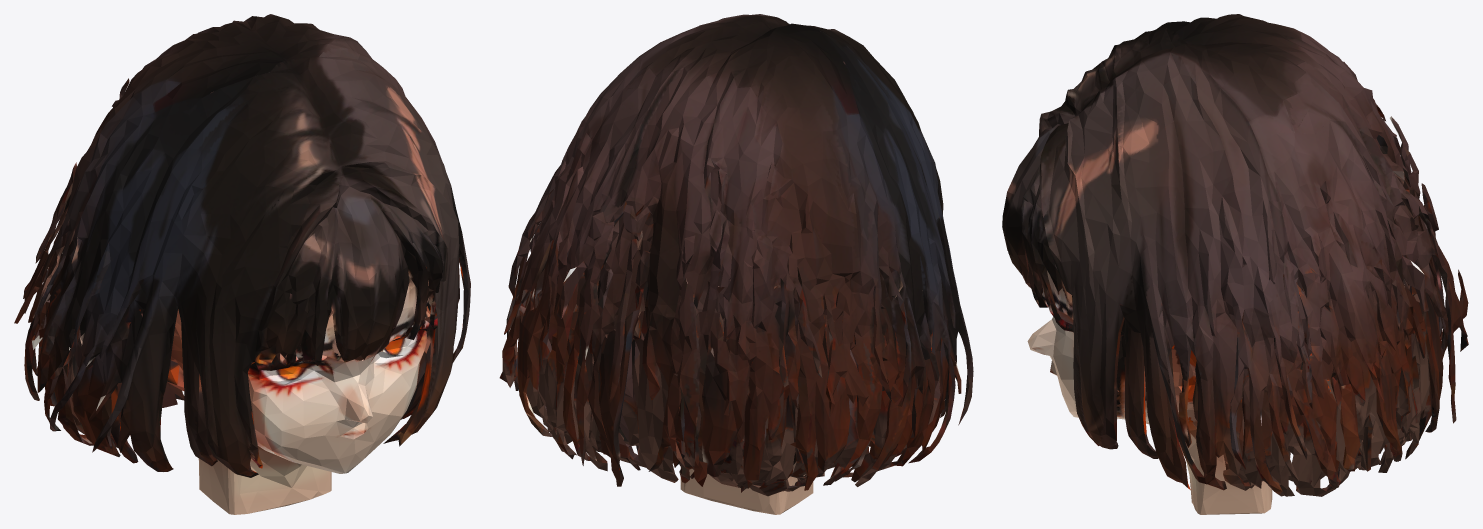
File: side_kasiko_repaired_atlas.glb
3 renders of one model, left to right at view 1: azimuth 30°, elevation 25°; view 2: azimuth 150°, elevation 25°; view 3: azimuth 270°, elevation 25°, orthographic.
Visible parts, largest first — view 1: temp_mesh.ply; view 2: temp_mesh.ply; view 3: temp_mesh.ply.
Boxes of the visible parts, box(x1,y1,x2,y2) form: temp_mesh.ply: box(14, 14, 470, 514); temp_mesh.ply: box(499, 14, 973, 514); temp_mesh.ply: box(1002, 14, 1468, 514).
Size of the model in its own units: 1.34 by 1.41 by 1.31.
Materials: 1 (1 with a texture image).
